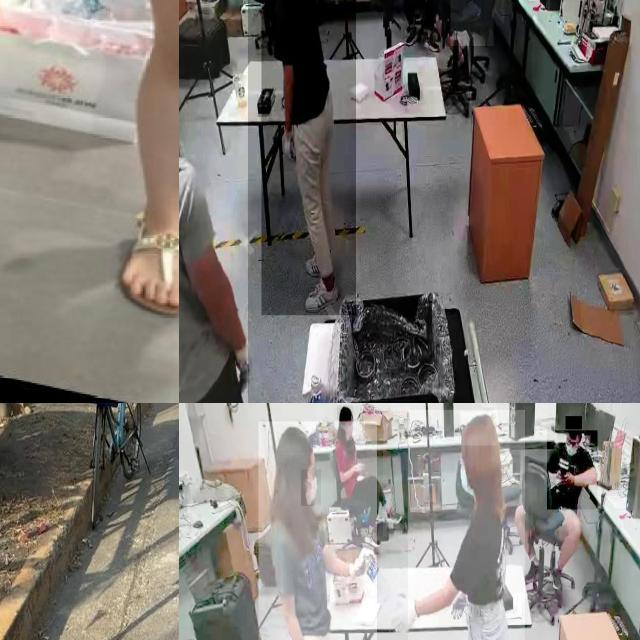Sandals: (91, 208, 179, 337)
face_mask: (453, 460, 477, 500), (301, 469, 321, 506)
face_nomask: (345, 422, 353, 441)
hand_glove: (352, 545, 381, 598), (395, 583, 420, 640), (278, 122, 294, 172)
hand_noglove: (553, 464, 569, 489), (561, 468, 575, 488), (351, 461, 365, 471)
head_nohelmet: (460, 412, 498, 446), (273, 425, 314, 453), (337, 406, 354, 422), (566, 416, 582, 430)
person: (261, 0, 356, 316), (179, 0, 248, 403), (408, 409, 525, 640), (258, 421, 377, 640), (333, 407, 383, 537), (547, 430, 598, 510), (450, 0, 493, 46), (402, 0, 433, 55)
shoes: (303, 276, 341, 314), (381, 500, 405, 530), (523, 554, 544, 587), (552, 558, 566, 600)
